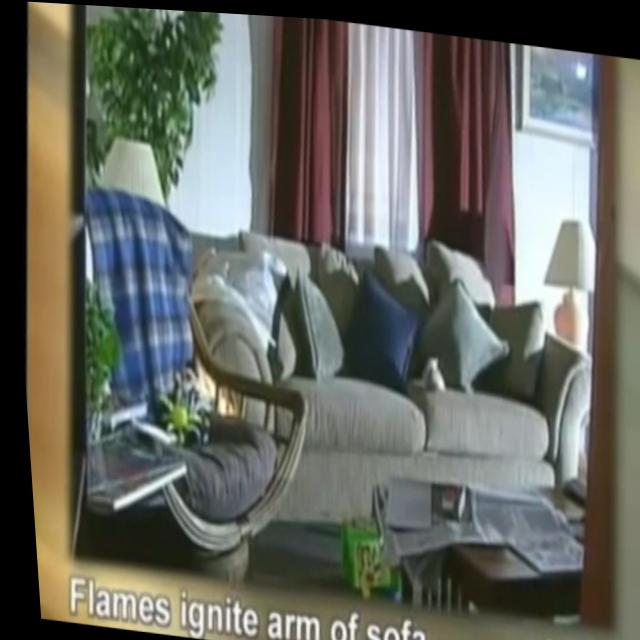fire: (181, 340, 238, 421)
